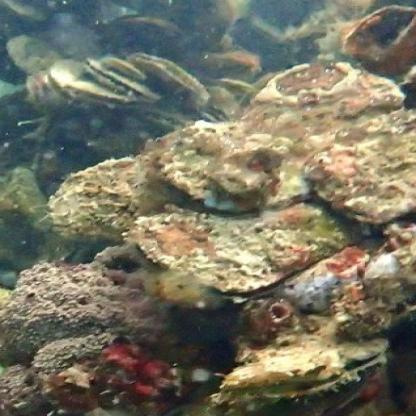Oyster- Indeterminate: (134, 202, 376, 303), (219, 336, 393, 406), (48, 55, 156, 113), (129, 53, 211, 115), (77, 57, 160, 102), (138, 111, 194, 134), (24, 75, 53, 114)
Oyster-Closed: (147, 121, 315, 210), (47, 155, 206, 242), (241, 64, 409, 138), (309, 114, 416, 220), (337, 243, 416, 336), (175, 0, 235, 53), (106, 15, 186, 48), (4, 31, 62, 75)
Oyster-Open: (345, 5, 415, 69)
